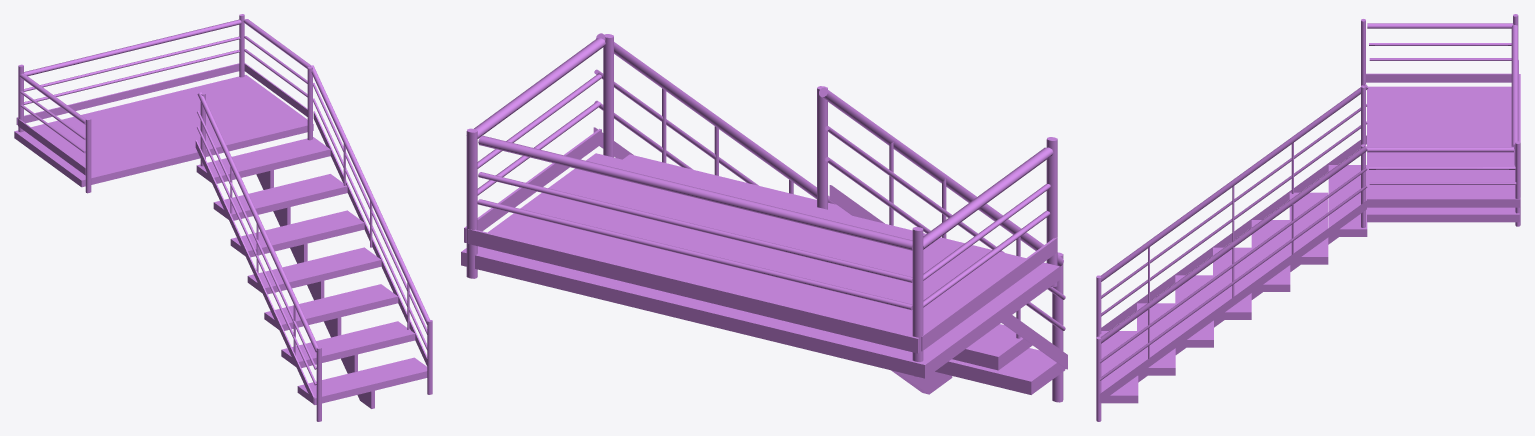
File: Ev_company_exit_stail001.fbx
3 views of the same model, side by side, from view 1: azimuth 30°, elevation 25°; view 2: azimuth 150°, elevation 25°; view 3: azimuth 270°, elevation 25° (orthographic). The views are drawn at different scales.
Visible parts, largest first — view 1: Ev_company_exit_stail001; view 2: Ev_company_exit_stail001; view 3: Ev_company_exit_stail001.
Boxes of the visible parts, bbox=[...] form: Ev_company_exit_stail001: bbox=[14, 14, 432, 421]; Ev_company_exit_stail001: bbox=[461, 33, 1067, 402]; Ev_company_exit_stail001: bbox=[1096, 14, 1520, 421].
Size of the model in its own units: 200 by 204 by 278.
